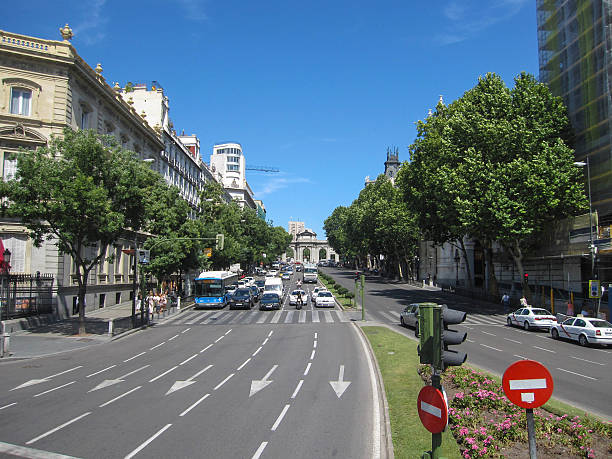Girilmez: (501, 357, 555, 412), (413, 385, 450, 437)
